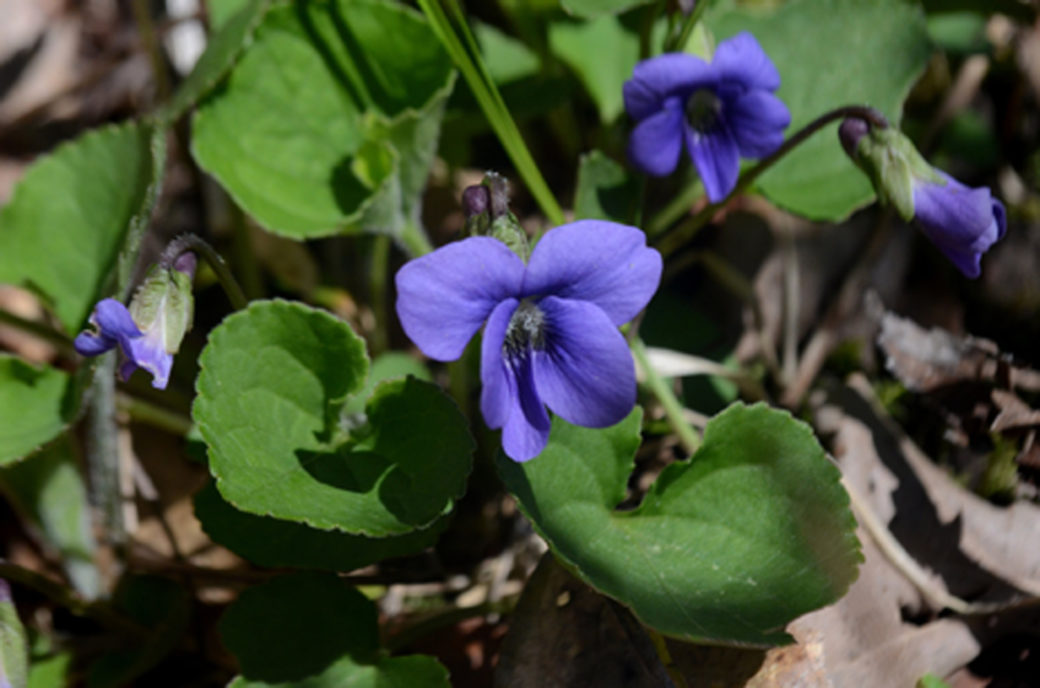violet: (387, 230, 660, 453), (624, 35, 800, 212), (844, 109, 1009, 290)
